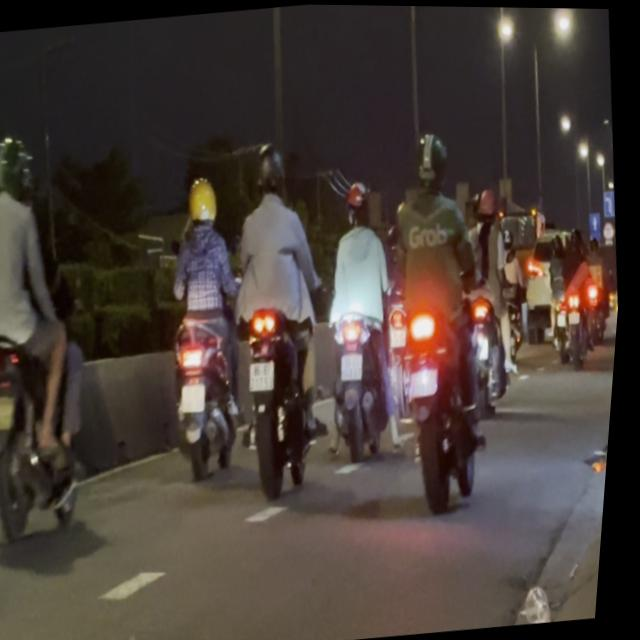helmet: (410, 128, 453, 191), (0, 133, 37, 201), (253, 141, 292, 200), (185, 174, 223, 229), (344, 177, 375, 225)
licenseplate: (366, 121, 519, 515), (0, 123, 127, 562), (210, 136, 356, 498), (149, 171, 269, 482), (308, 173, 420, 462)
nohelmet: (410, 365, 445, 396), (251, 359, 281, 390), (184, 381, 212, 412), (0, 394, 24, 430), (343, 351, 369, 379)
